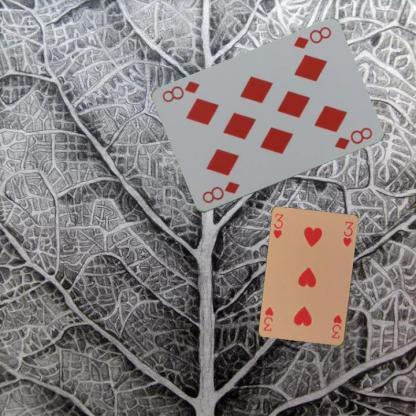3h: (328, 312, 344, 340), (270, 211, 285, 240)
8d: (290, 24, 332, 51), (199, 179, 241, 205)
